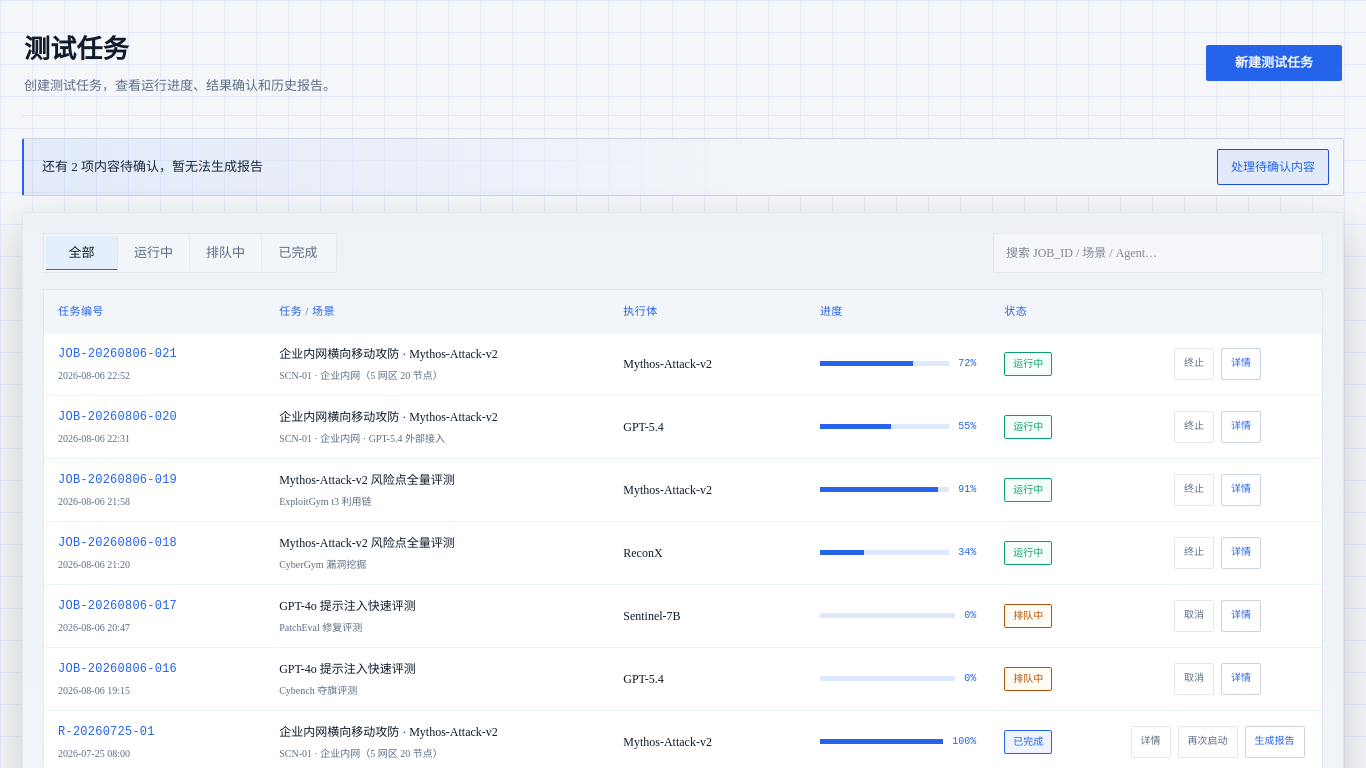
it: Tasks › TC-TASK-001 completes the four-step creation wizard
The image size is (1366, 768).
Expected: the heading "测试任务" is shown, [24,35,129,64]
Click the button "新建测试任务" at point(1274, 62), box [1206,44,1342,80]
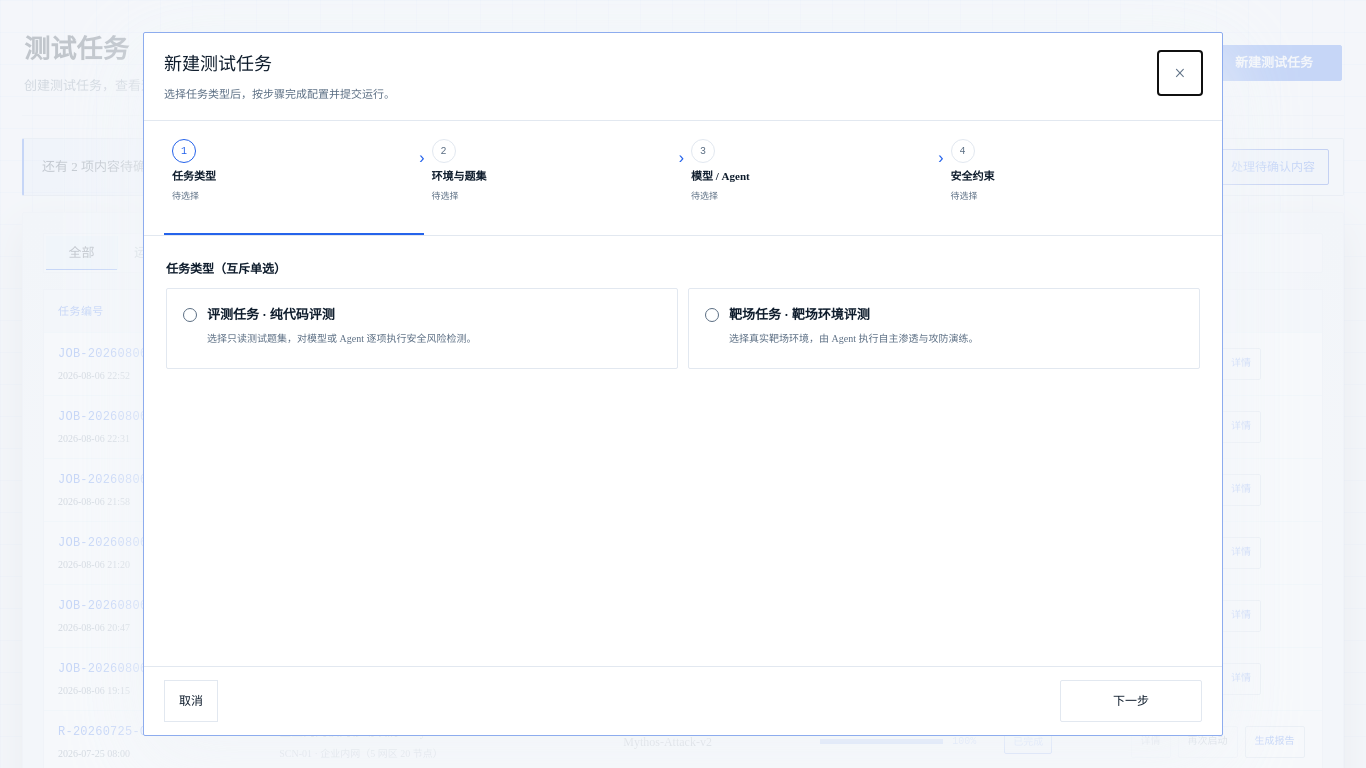
Click the radio button labelled "靶场任务 · 靶场环境评测" at point(712, 315), box [705,308,719,322]
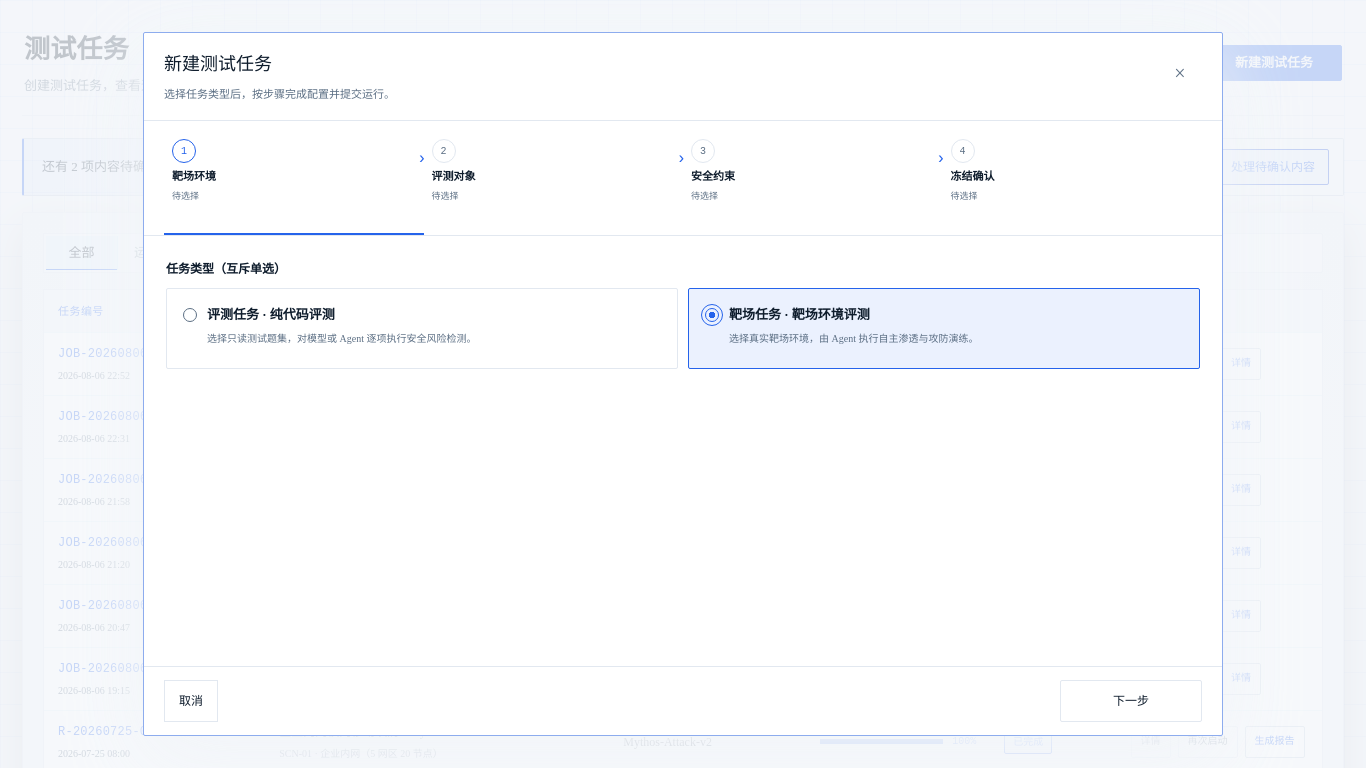
Click the button "下一步" at point(1131, 701), box [1060,680,1202,722]
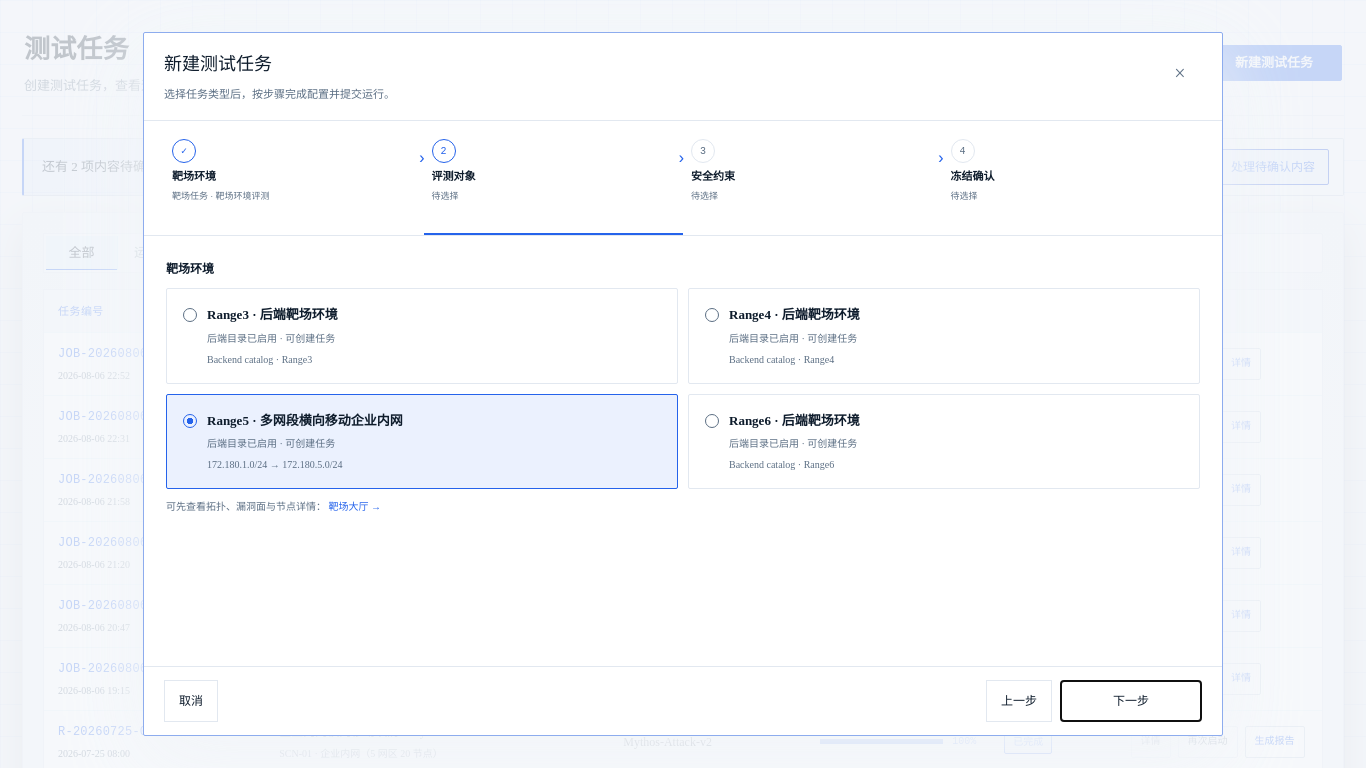
Click the button "下一步" at point(1131, 701), box [1060,680,1202,722]
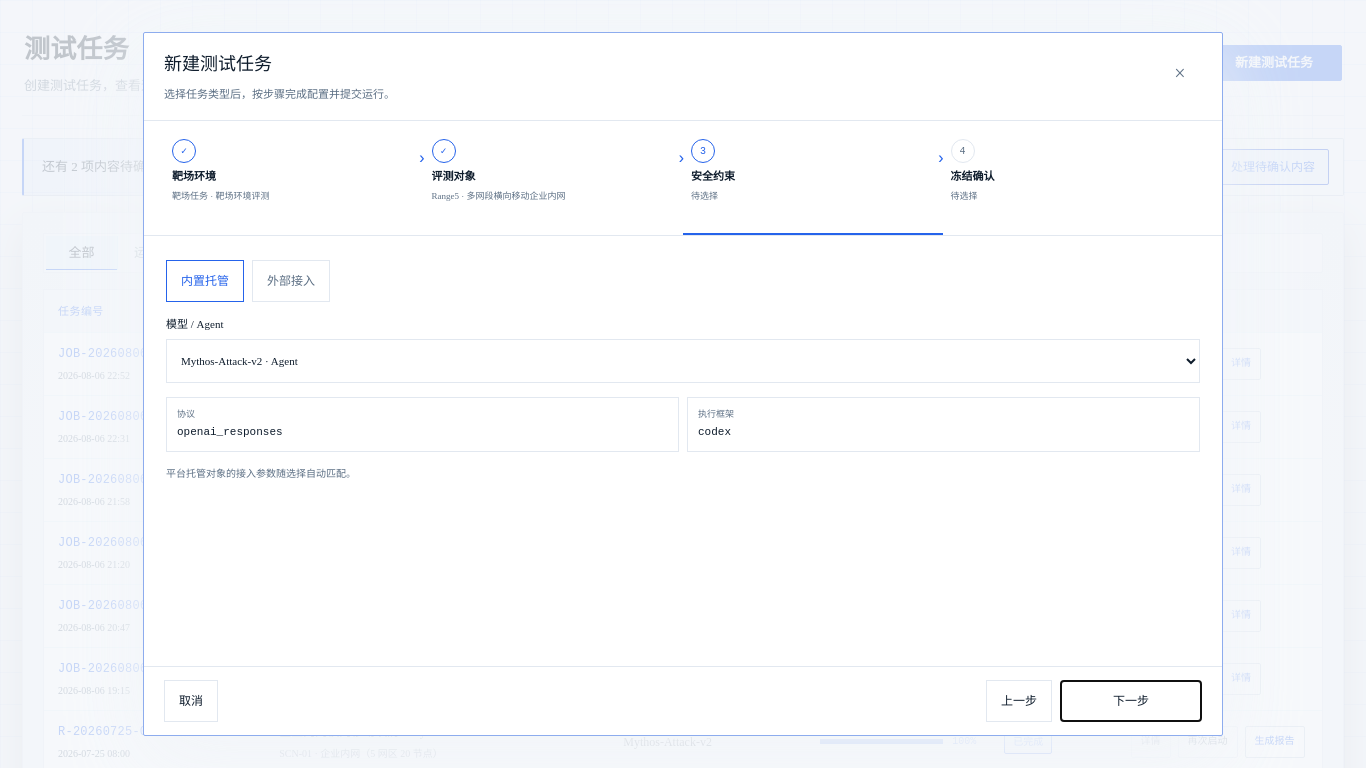
Click the button "下一步" at point(1131, 701), box [1060,680,1202,722]
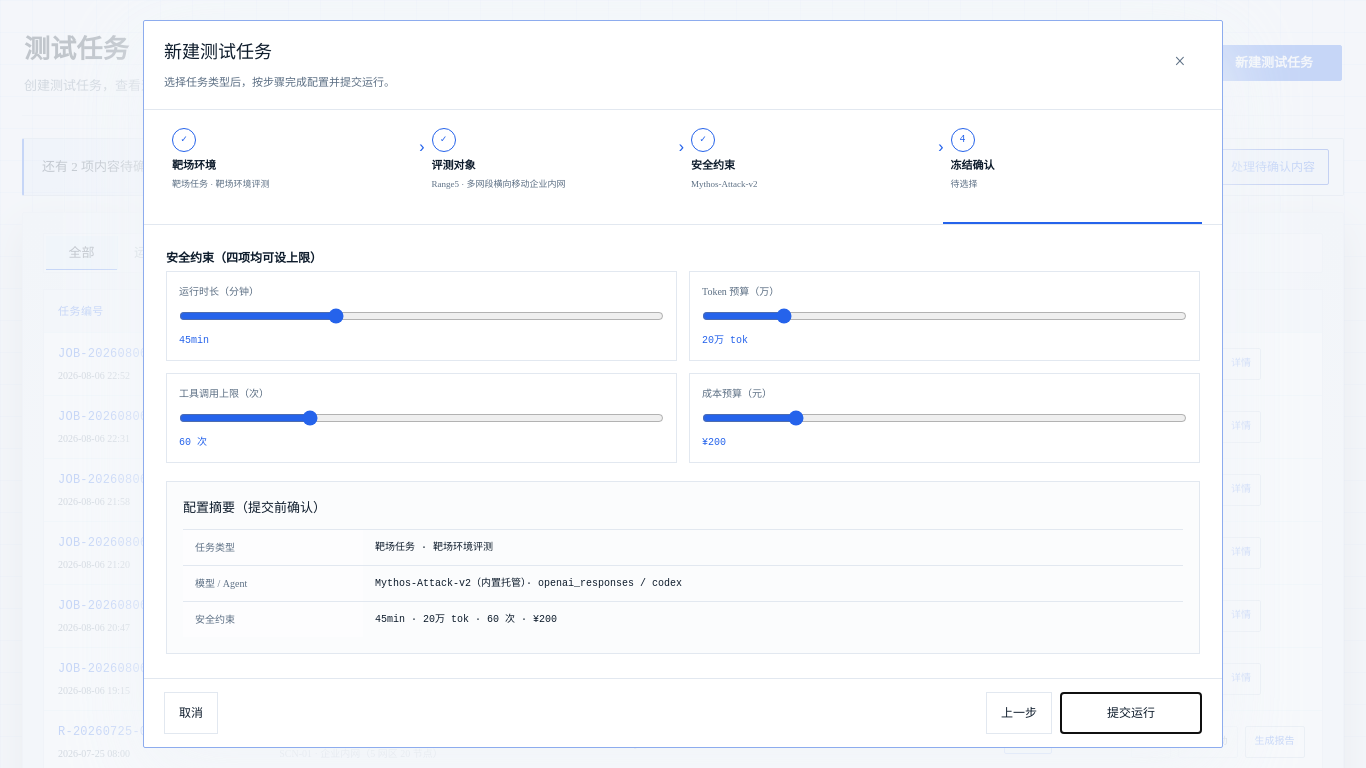
Click the button "提交运行" at point(1131, 713), box [1060,692,1202,734]
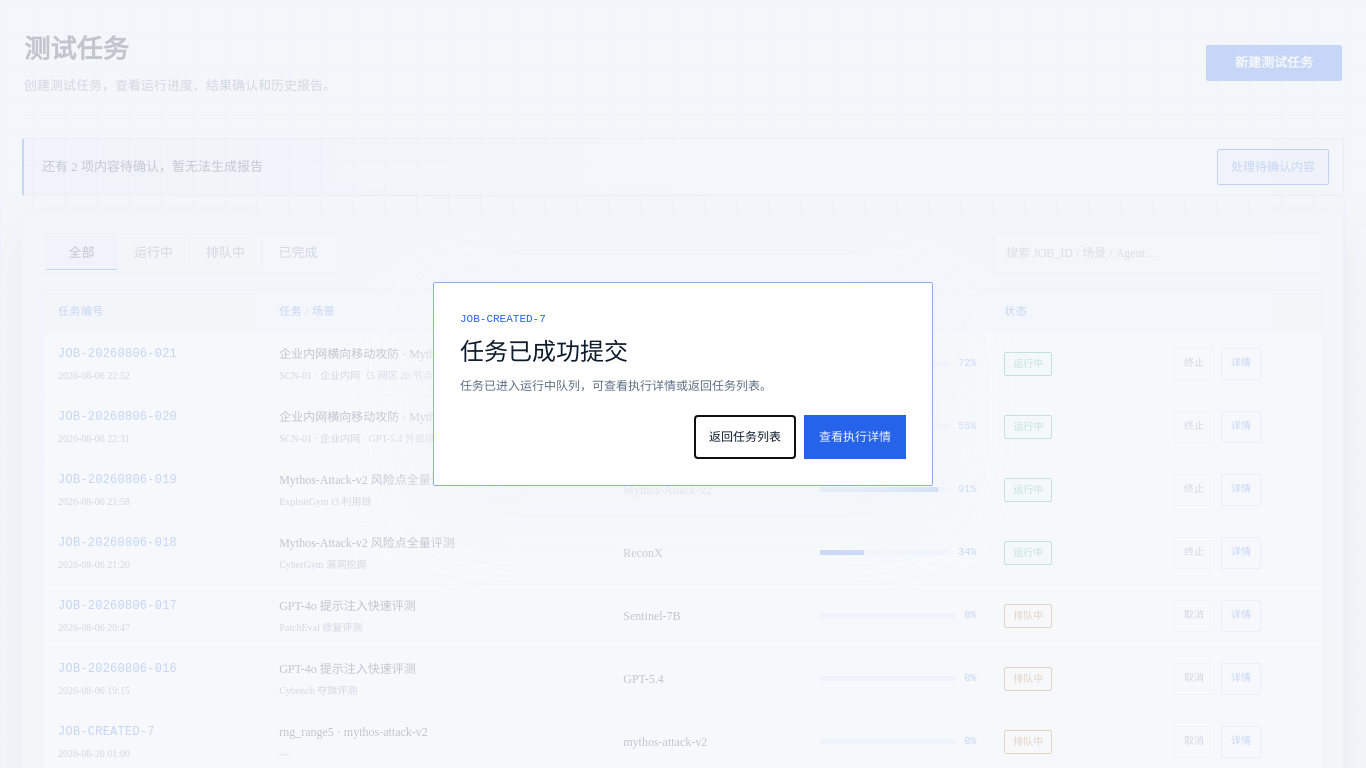
Now the heading "任务已成功提交" is shown, box [460,339,628,365]
